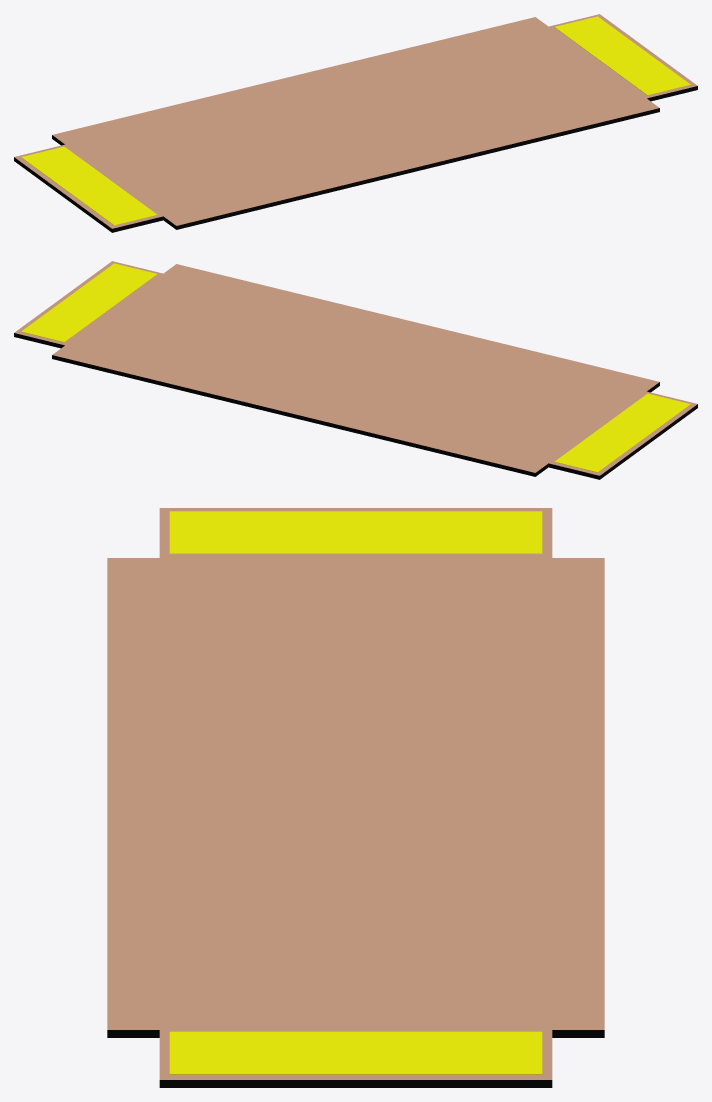
The model's file is EscenarioVacio.fbx.
3 views of the same model, one above another, from view 1: azimuth 30°, elevation 25°; view 2: azimuth 150°, elevation 25°; view 3: azimuth 270°, elevation 25° (orthographic). The views are drawn at different scales.
Parts seen in each view (by area): view 1: PlataformaMovil.012, SalidaBambalinasIzq.002, SalidaBambalinasIzq.003; view 2: PlataformaMovil.012, SalidaBambalinasIzq.002, SalidaBambalinasIzq.003; view 3: PlataformaMovil.012, SalidaBambalinasIzq.003, SalidaBambalinasIzq.002.
Part boxes in pixels (x1,y1,x2,y2): PlataformaMovil.012: (14,14,697,232); SalidaBambalinasIzq.002: (21,146,157,225); SalidaBambalinasIzq.003: (554,16,690,95); PlataformaMovil.012: (14,261,697,479); SalidaBambalinasIzq.002: (554,393,690,472); SalidaBambalinasIzq.003: (21,263,157,342); PlataformaMovil.012: (107,508,604,1087); SalidaBambalinasIzq.003: (169,1031,542,1074); SalidaBambalinasIzq.002: (169,511,542,553).
Size of the model in its own units: 28591 by 217 by 10516.
